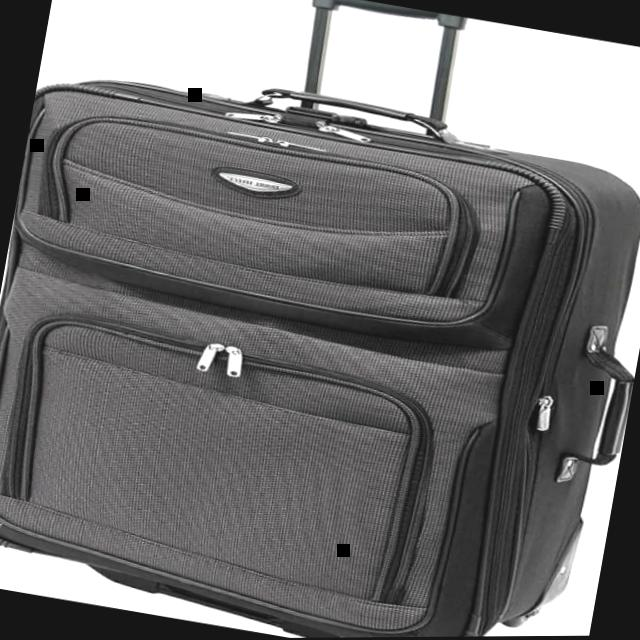luggage: (0, 28, 640, 640)
